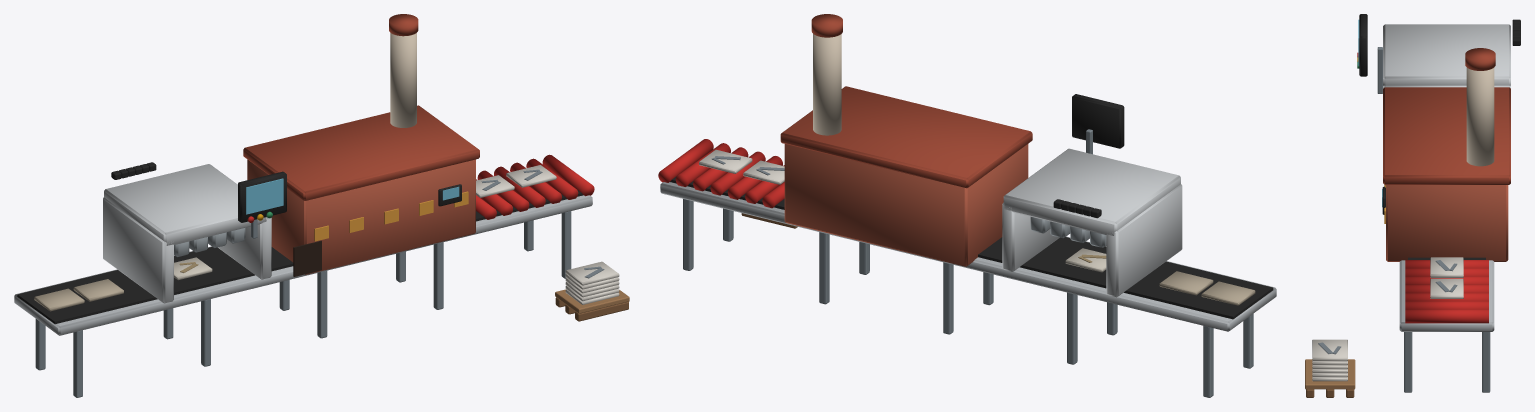
File: m_tileline.glb
The picture shows the model from 3 angles, left to right: view 1: azimuth 30°, elevation 25°; view 2: azimuth 150°, elevation 25°; view 3: azimuth 270°, elevation 25°; orthographic projection. The views are drawn at different scales.
Visible parts, largest first — view 1: m_tileline; view 2: m_tileline; view 3: m_tileline.
Part boxes in pixels (bbox=[...]): m_tileline: bbox=[14, 14, 629, 397]; m_tileline: bbox=[658, 14, 1276, 397]; m_tileline: bbox=[1305, 14, 1520, 397].
Bounding box in the file's own units: 2.32 × 1.08 × 0.775.
